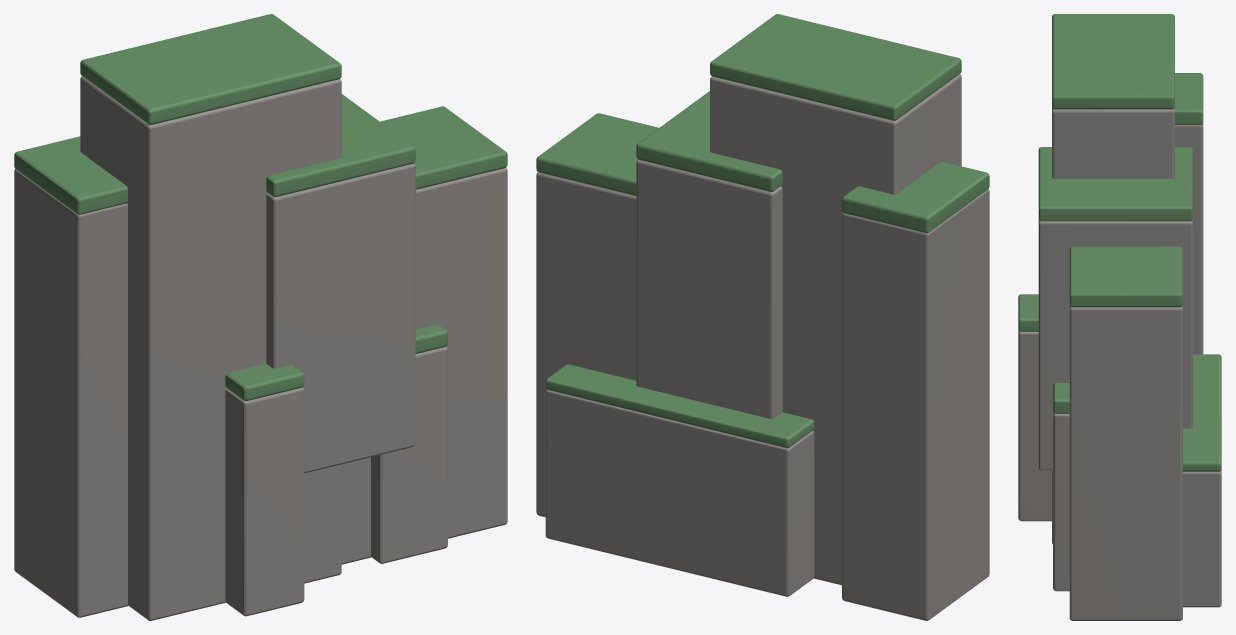
File: Cliff_002.fbx
3 views of the same model, side by side, from view 1: azimuth 30°, elevation 25°; view 2: azimuth 150°, elevation 25°; view 3: azimuth 270°, elevation 25° (orthographic). The views are drawn at different scales.
Visible parts, largest first — view 1: Cliff_002; view 2: Cliff_002; view 3: Cliff_002.
Boxes of the visible parts, <box> form: Cliff_002: <box>14,14,507,620</box>; Cliff_002: <box>536,14,989,620</box>; Cliff_002: <box>1018,14,1221,620</box>.
Bounding box in the file's own units: 4.71 × 5.48 × 2.25.
